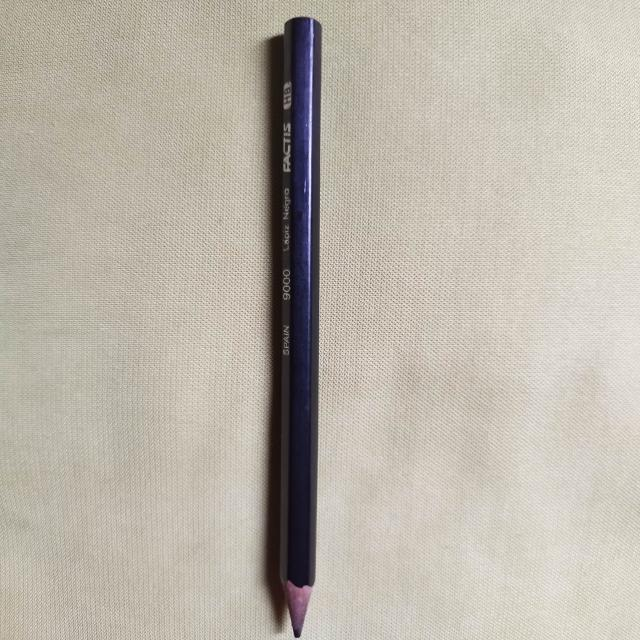pencil: (280, 16, 321, 637)
